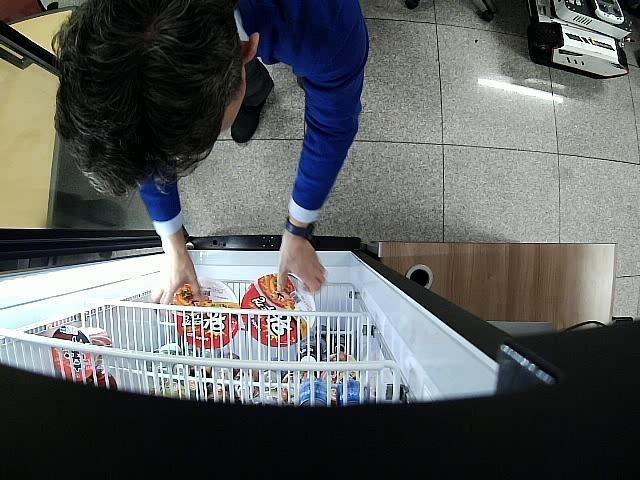10_wangTtukkeong: (241, 272, 315, 347), (172, 278, 238, 349)
